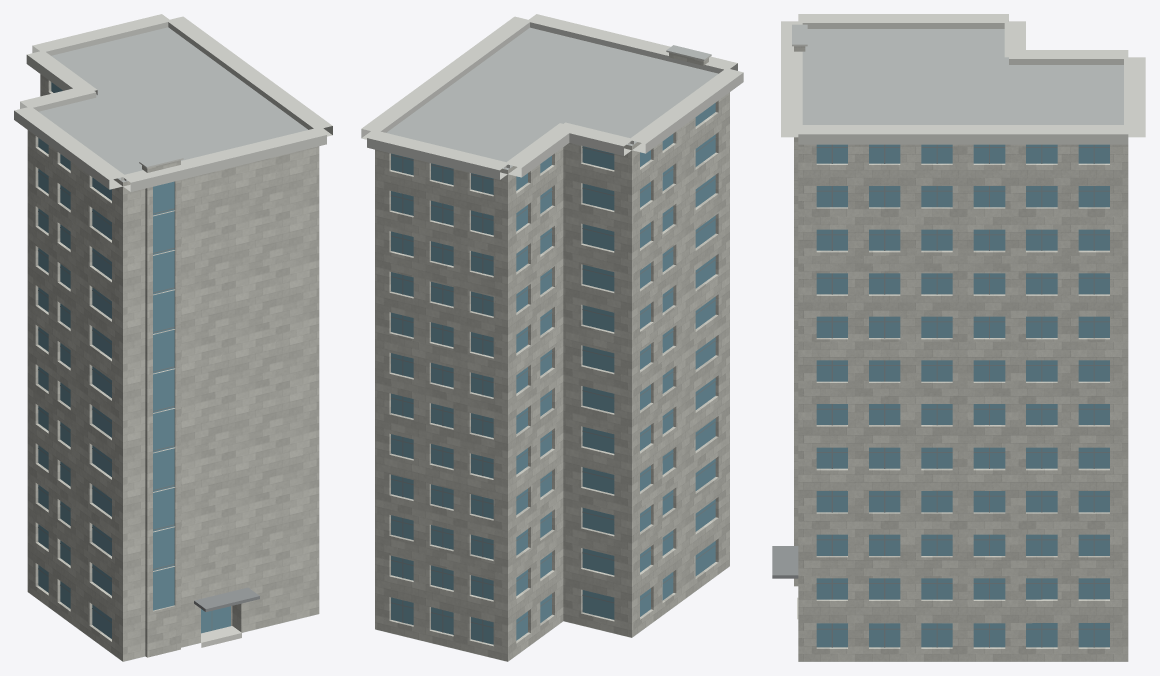
3 renders of one model, left to right at view 1: azimuth 30°, elevation 25°; view 2: azimuth 150°, elevation 25°; view 3: azimuth 270°, elevation 25°, orthographic. The views are drawn at different scales.
Visible parts, largest first — view 1: b401__wall, unist-batch-b401__roof, b401__glass, b401__trim, b401__frame, b401__canopy, b401__entranceThreshold_0; view 2: b401__wall, b401__glass, unist-batch-b401__roof, b401__trim, b401__frame; view 3: b401__wall, b401__glass, unist-batch-b401__roof, b401__trim, b401__frame, b401__canopy.
Boxes of the visible parts, x1,y1,x2,y2 form: b401__wall: (27,74,319,661); unist-batch-b401__roof: (28,27,318,661); b401__glass: (38,82,230,638); b401__trim: (14,14,332,191); b401__frame: (38,171,212,630); b401__canopy: (194,587,259,611); b401__entranceThreshold_0: (201,626,241,647); b401__wall: (375,52,729,661); b401__glass: (391,103,715,644); unist-batch-b401__roof: (376,27,729,661); b401__trim: (361,14,743,179); b401__frame: (391,137,716,642); b401__wall: (794,46,1128,661); b401__glass: (816,144,1109,647); unist-batch-b401__roof: (792,24,1127,661); b401__trim: (781,14,1145,144); b401__frame: (816,144,1109,647); b401__canopy: (772,546,798,578).
Size of the model in its own units: 19.82 by 42.1 by 25.99.
Materials: 7 (1 with a texture image).
